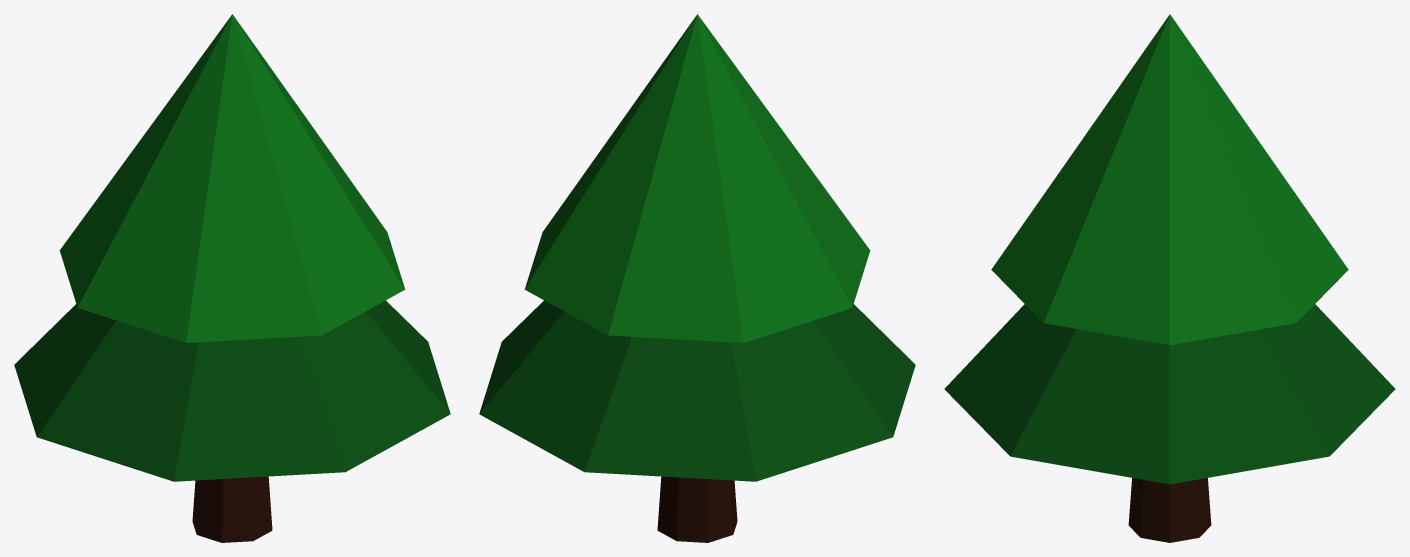
The model's file is SM_Tree.fbx.
The picture shows the model from 3 angles, left to right: view 1: azimuth 30°, elevation 25°; view 2: azimuth 150°, elevation 25°; view 3: azimuth 270°, elevation 25°; orthographic projection.
Parts seen in each view (by area): view 1: SM_Tree; view 2: SM_Tree; view 3: SM_Tree.
Part boxes in pixels (bbox=[...]): SM_Tree: bbox=[14, 14, 450, 542]; SM_Tree: bbox=[479, 14, 915, 542]; SM_Tree: bbox=[944, 14, 1395, 542].
Bounding box in the file's own units: 2.4 × 2.4 × 3.
